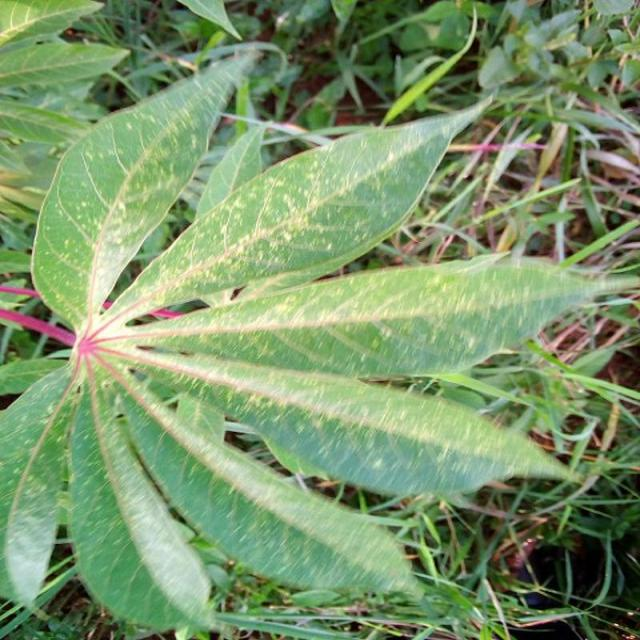cassava leaf: (1, 46, 638, 636), (29, 46, 260, 334)
